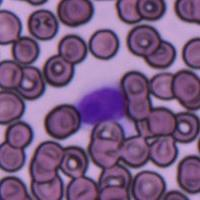L: (73, 80, 126, 126)
